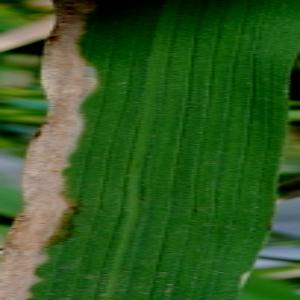2 BacterialBlight: (28, 1, 165, 300)
